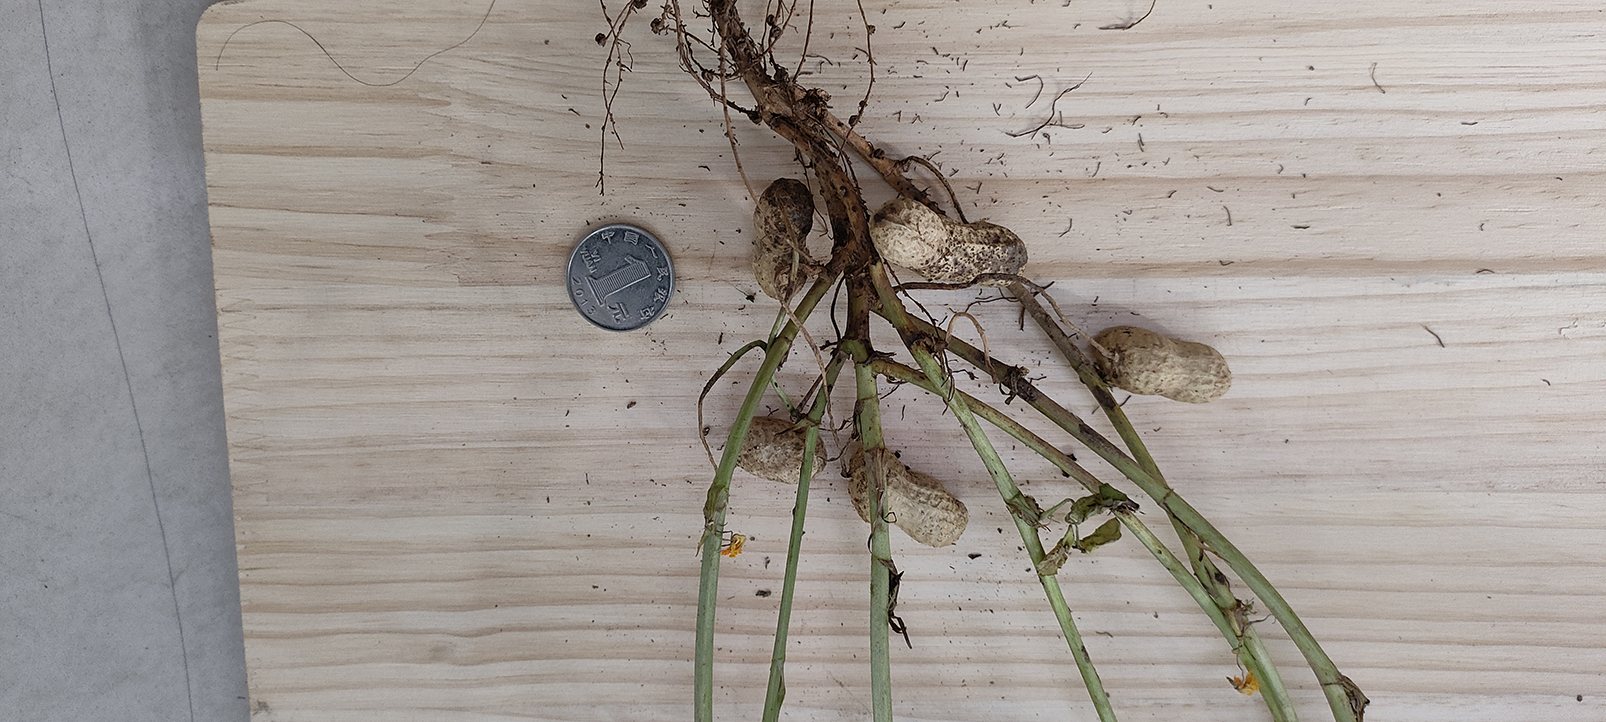h: (869, 199, 1030, 283), (848, 447, 969, 546), (1096, 325, 1232, 405)
l: (751, 178, 814, 300), (733, 415, 829, 483)
